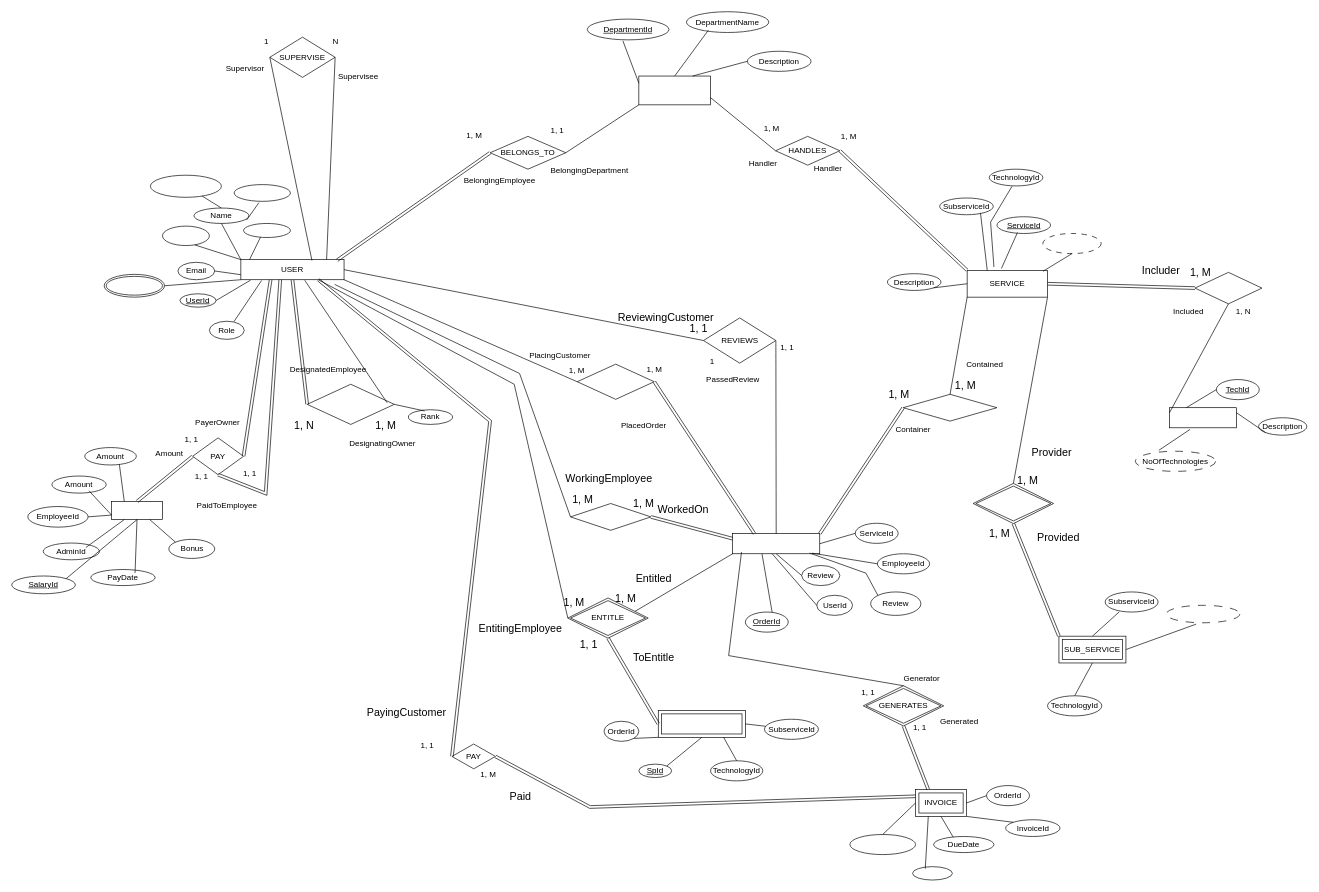
The diagram is 1319 pixels wide and 892 high, and some of its shapes have lost their labels. The centre of each missing label's shape, as x and y in pixels:
"Address" belongs at [134,285].
"CONTAINS" belongs at [949,407].
"DEPARTMENT" belongs at [674,90].
"DESIGNATE" belongs at [350,404].
"FirstName" belongs at [261,192].
"INCLUDES" belongs at [1228,288].
"LastName" belongs at [185,186].
"NoOfServices" belongs at [1071,243].
"NoOfSubservices" belongs at [1202,614].
"ORDER" belongs at [776,543].
"Password" belongs at [185,235].
"PaymentStatus" belongs at [882,844].
"PLACES" belongs at [615,381].
"Price" belongs at [932,873].
"PROVIDE" belongs at [1013,503].
"SALARY" belongs at [136,510].
"SPECIAL_SERVICE" belongs at [701,723].
"TECHNOLOGY" belongs at [1202,417].
"Username" belongs at [266,230].
"WORKS_ON" belongs at [610,516].
